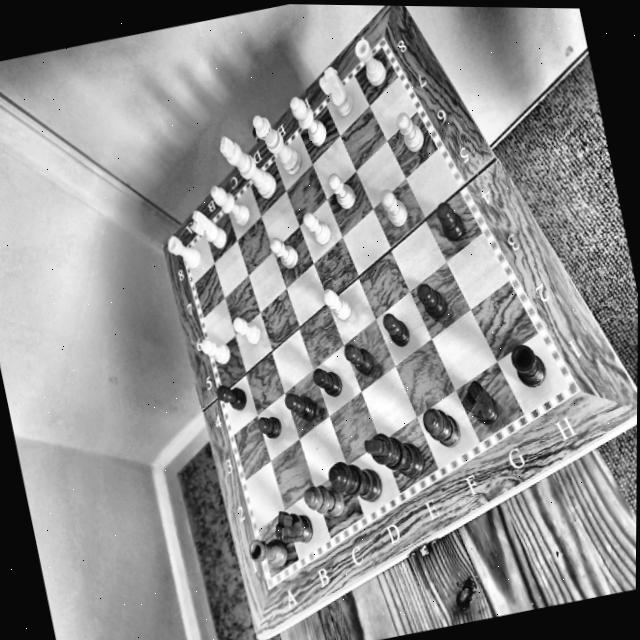black-bishop: (416, 399, 467, 455), (297, 476, 351, 528)
black-king: (359, 420, 429, 490)
black-knight: (455, 373, 508, 433), (265, 501, 319, 553)
black-pawn: (412, 276, 457, 328), (431, 194, 470, 247), (307, 359, 350, 404), (376, 308, 415, 355), (341, 338, 379, 383), (279, 384, 318, 427), (214, 378, 253, 416), (253, 408, 288, 446)
black-queen: (322, 449, 387, 512)
black-rook: (503, 335, 556, 396), (243, 530, 290, 576)
white-bishop: (287, 90, 331, 152), (206, 177, 254, 230)
white-king: (213, 124, 280, 206)
white-knight: (314, 63, 360, 121), (187, 205, 230, 254)
white-pawn: (390, 106, 429, 157), (376, 183, 415, 233), (195, 326, 236, 373), (229, 308, 269, 353), (319, 282, 358, 327), (265, 232, 303, 277), (299, 206, 336, 250), (324, 168, 360, 213)
white-queen: (249, 104, 306, 181)
white-rook: (350, 33, 394, 93), (162, 228, 204, 274)
